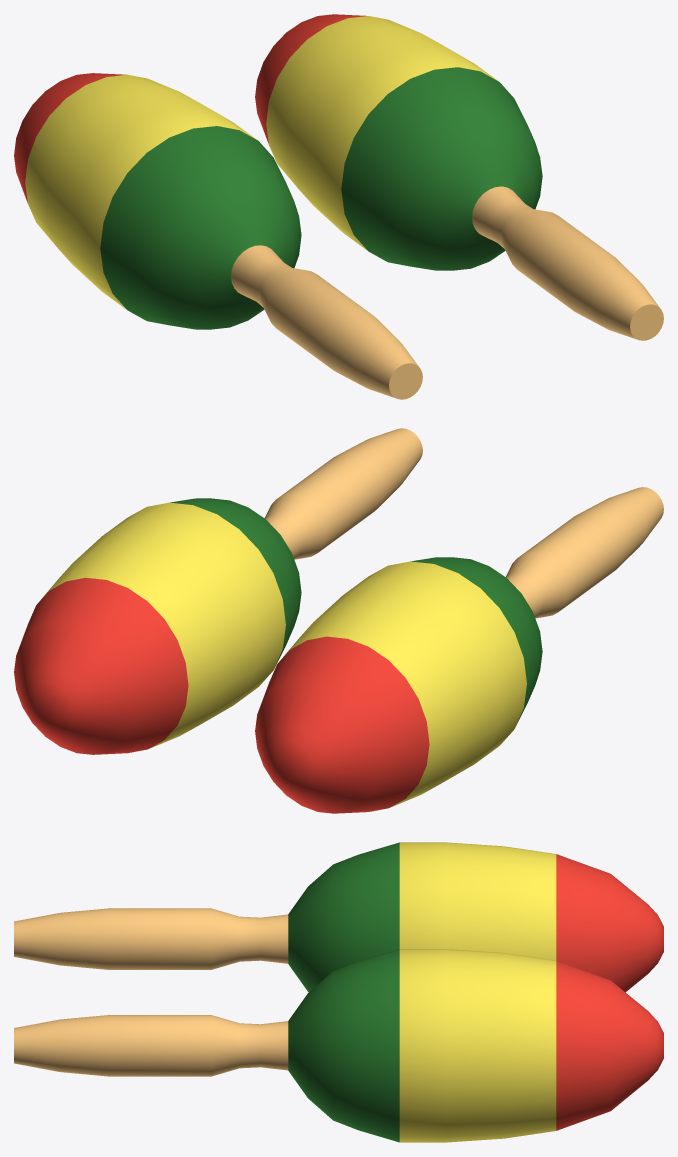
Rendered from Rumba_Shakers.fbx.
The picture shows the model from 3 angles, top to bottom: view 1: azimuth 30°, elevation 25°; view 2: azimuth 150°, elevation 25°; view 3: azimuth 270°, elevation 25°; orthographic projection. The views are drawn at different scales.
Visible parts, largest first — view 1: Rumba_Shakers; view 2: Rumba_Shakers; view 3: Rumba_Shakers.
Boxes of the visible parts, bbox=[...] form: Rumba_Shakers: bbox=[14, 14, 663, 399]; Rumba_Shakers: bbox=[14, 428, 663, 813]; Rumba_Shakers: bbox=[14, 842, 663, 1142].
Bounding box in the file's own units: 8.56 × 3.72 × 12.45.
Materials: 1 (1 with a texture image).
